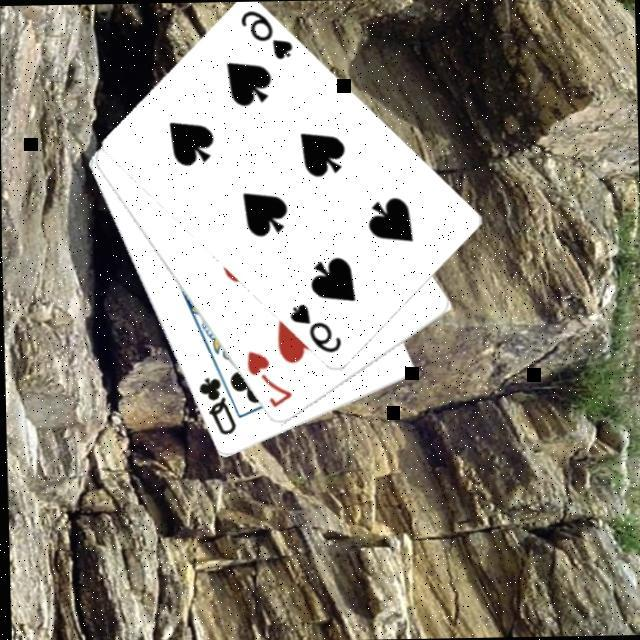6S: (237, 8, 297, 65), (286, 302, 344, 359)
7H: (243, 349, 296, 414)
QC: (195, 375, 238, 442)
